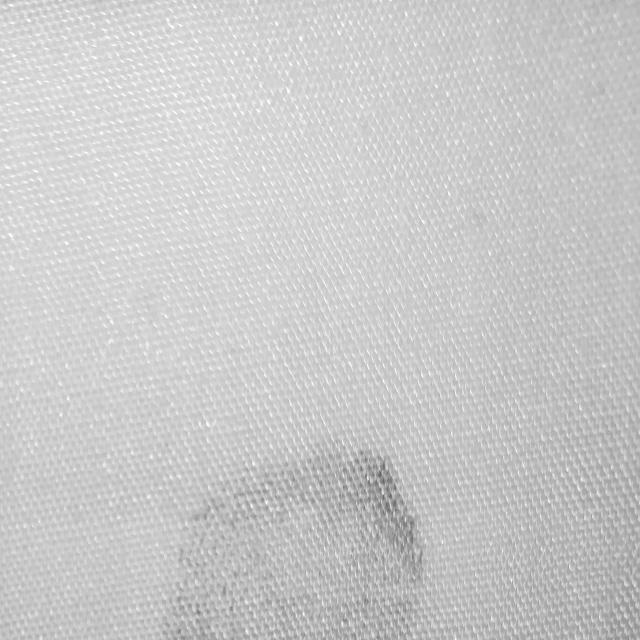Stain: (165, 448, 423, 639)
